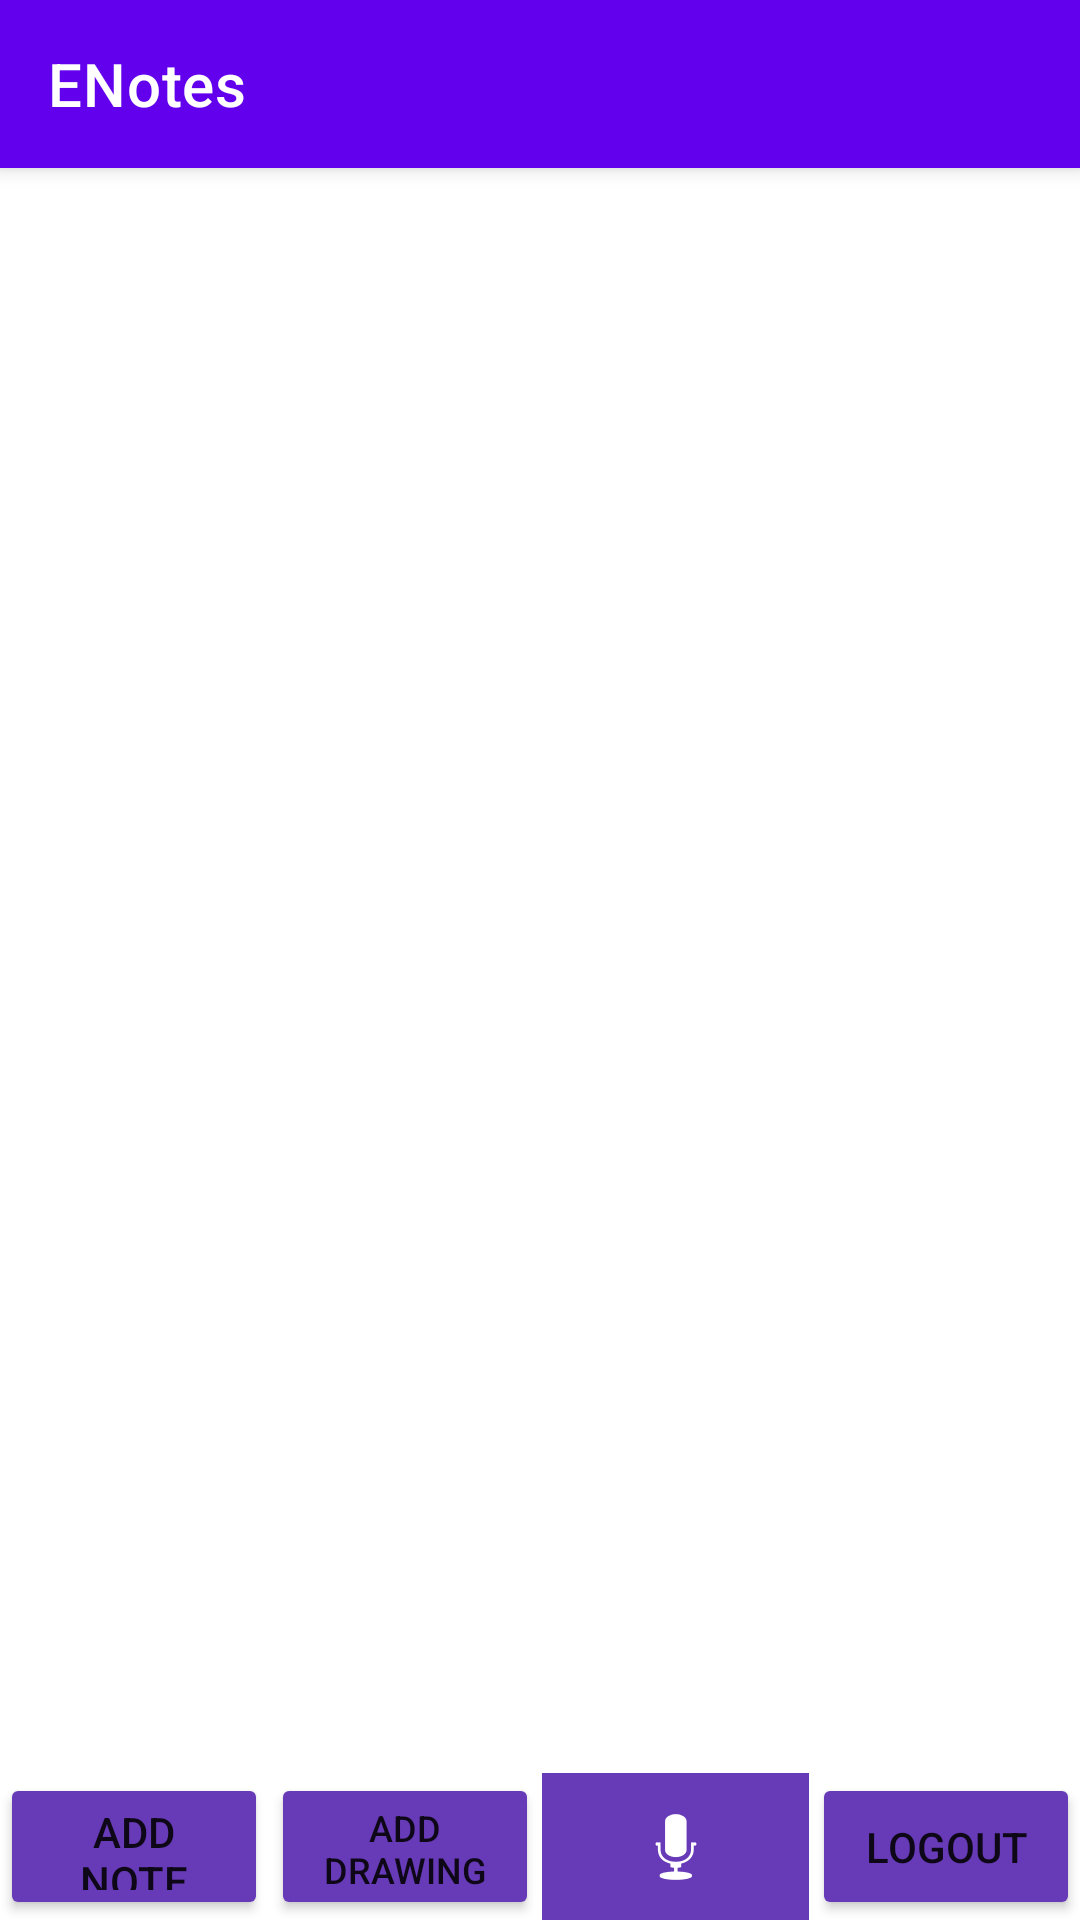

Locate icon controls on the screen. Image size 1080 x 1920, boxes as Rect(x1, y1, x2, y2).
speak now: Rect(542, 1773, 809, 1920)
